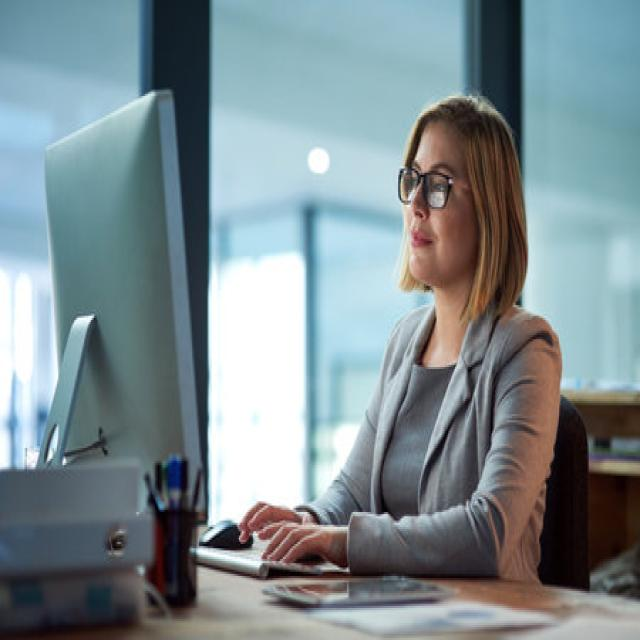desktop-person: (31, 71, 572, 640)
